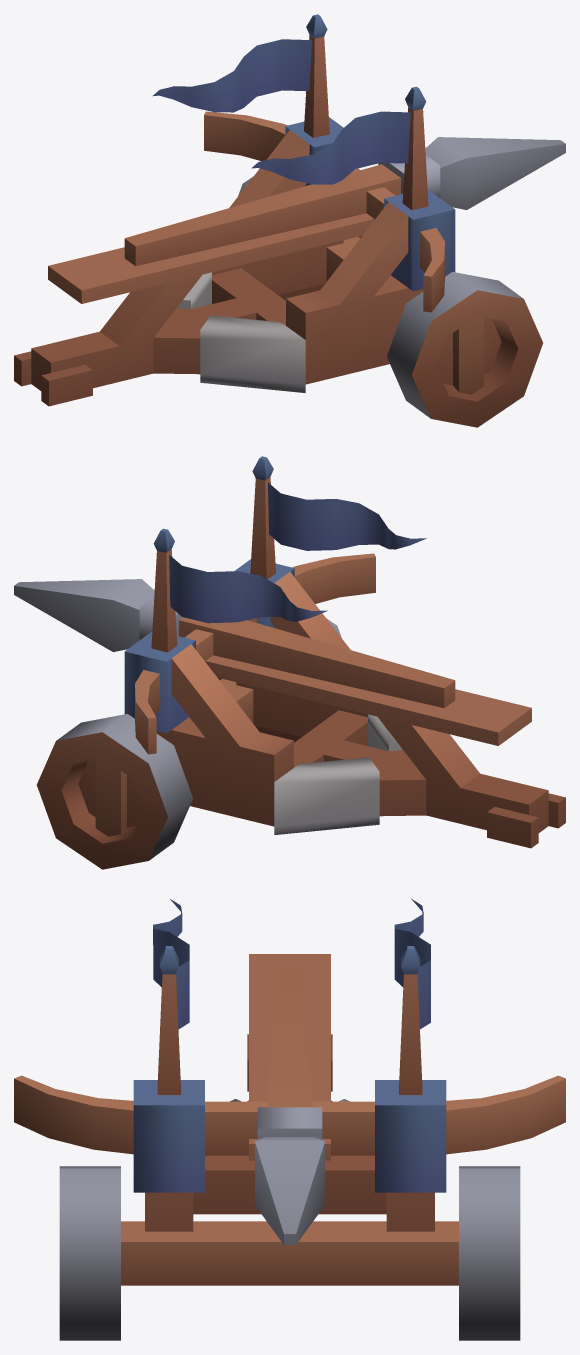
The model's file is siege-ballista.glb.
3 views of the same model, one above another, from view 1: azimuth 30°, elevation 25°; view 2: azimuth 150°, elevation 25°; view 3: azimuth 270°, elevation 25° (orthographic). The views are drawn at different scales.
Visible parts, largest first — view 1: siege-ballista; view 2: siege-ballista; view 3: siege-ballista.
Part boxes in pixels (x1=…): siege-ballista: x1=14, y1=14, x2=565, y2=427; siege-ballista: x1=14, y1=456, x2=565, y2=869; siege-ballista: x1=14, y1=898, x2=565, y2=1340.
Size of the model in its own units: 2.87 by 1.6 by 2.11.
